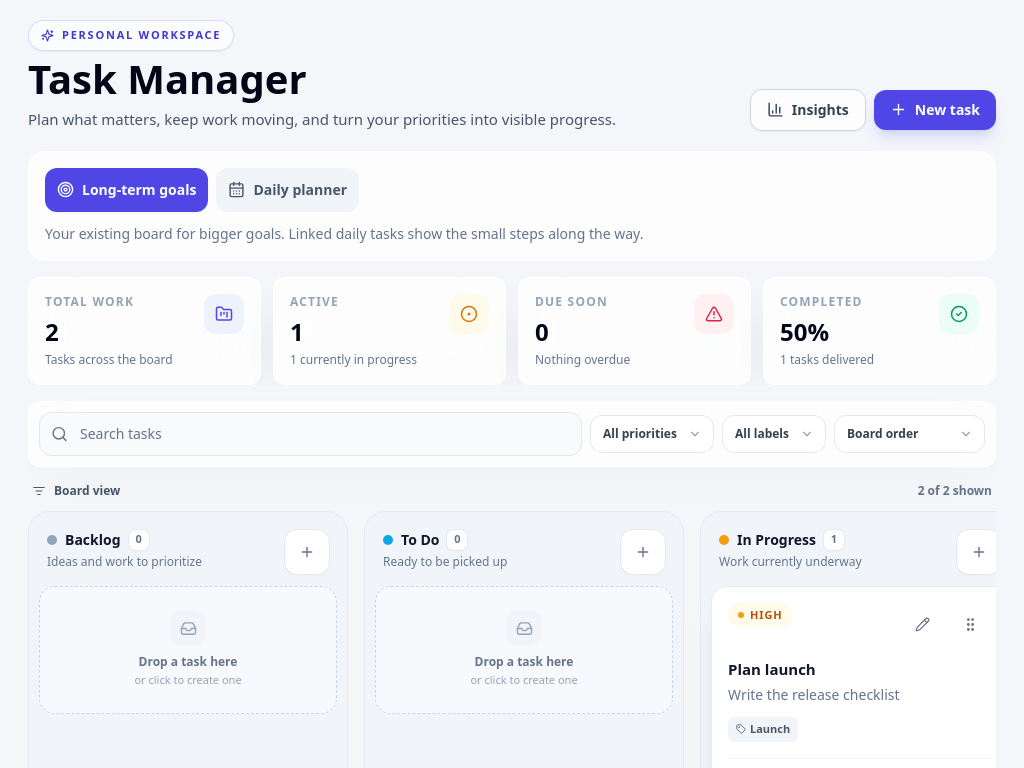
Test: traps the task editor lifecycle and restores focus on Escape
expect the heading "Plan launch" is shown: met, box [728,658,816,678]
Click the button "New task" at (935, 110), box [874,90,996,130]
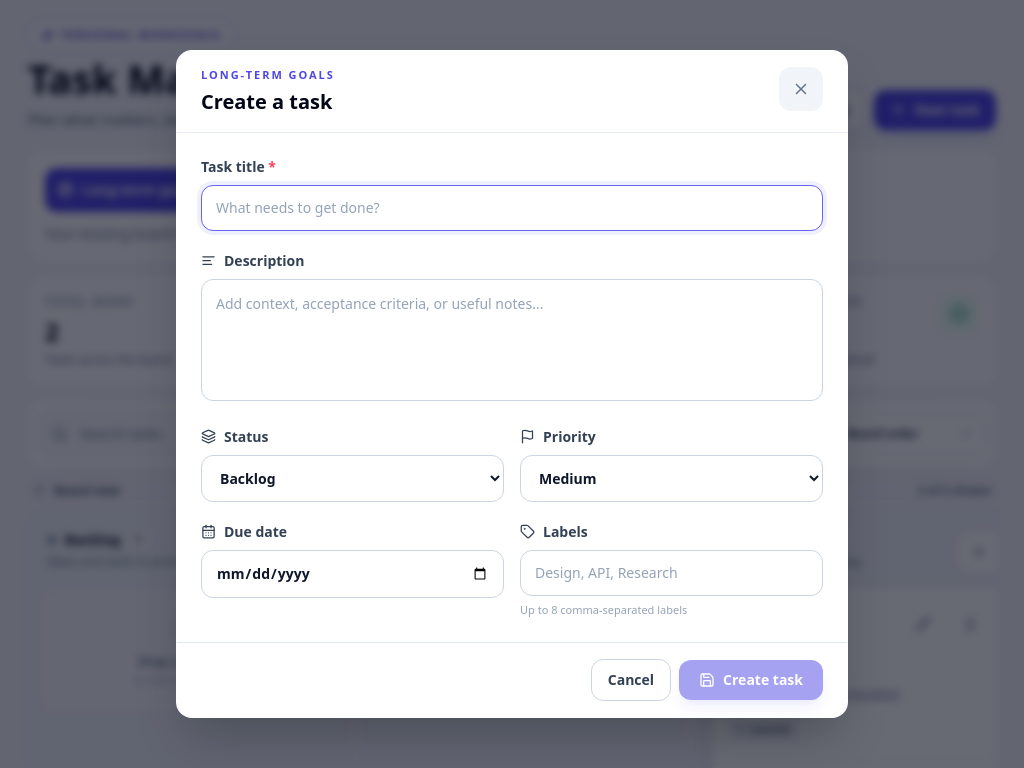
Press Escape
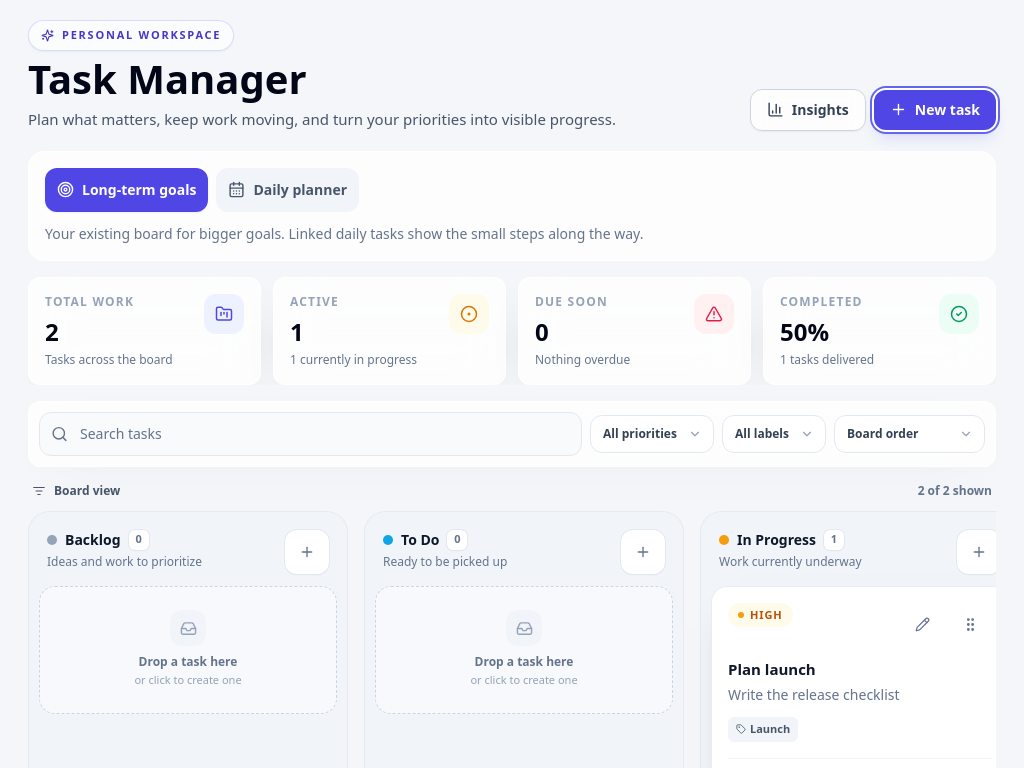
expect the heading "Create a task" is gone: met
